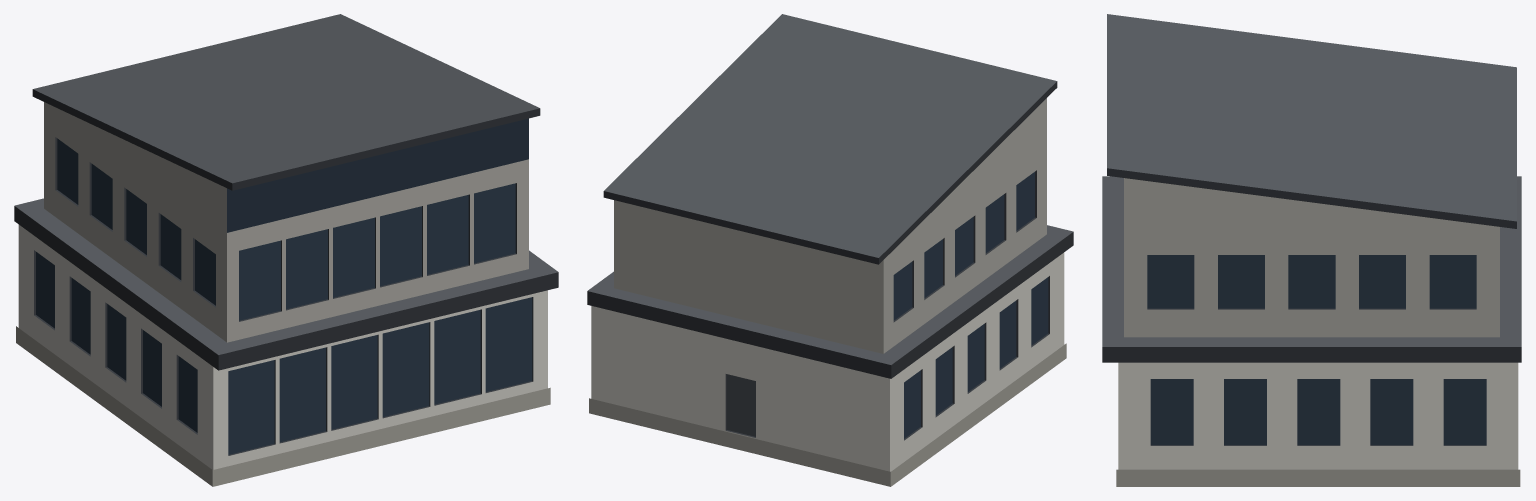
The model's file is pits_office_roof.glb.
3 renders of one model, left to right at view 1: azimuth 30°, elevation 25°; view 2: azimuth 150°, elevation 25°; view 3: azimuth 270°, elevation 25°, orthographic. The views are drawn at different scales.
Visible parts, largest first — view 1: pits_office_roof; view 2: pits_office_roof; view 3: pits_office_roof.
Part boxes in pixels (left/top/right/bottom): pits_office_roof: left=14, top=14, right=558, bottom=486; pits_office_roof: left=587, top=14, right=1073, bottom=486; pits_office_roof: left=1102, top=14, right=1521, bottom=486.
Size of the model in its own units: 12 by 10.22 by 12.48.
